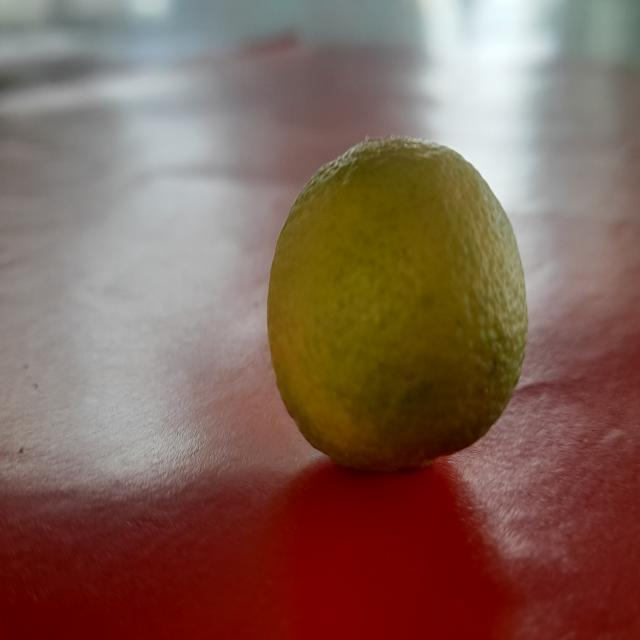greening: (270, 132, 522, 470)
